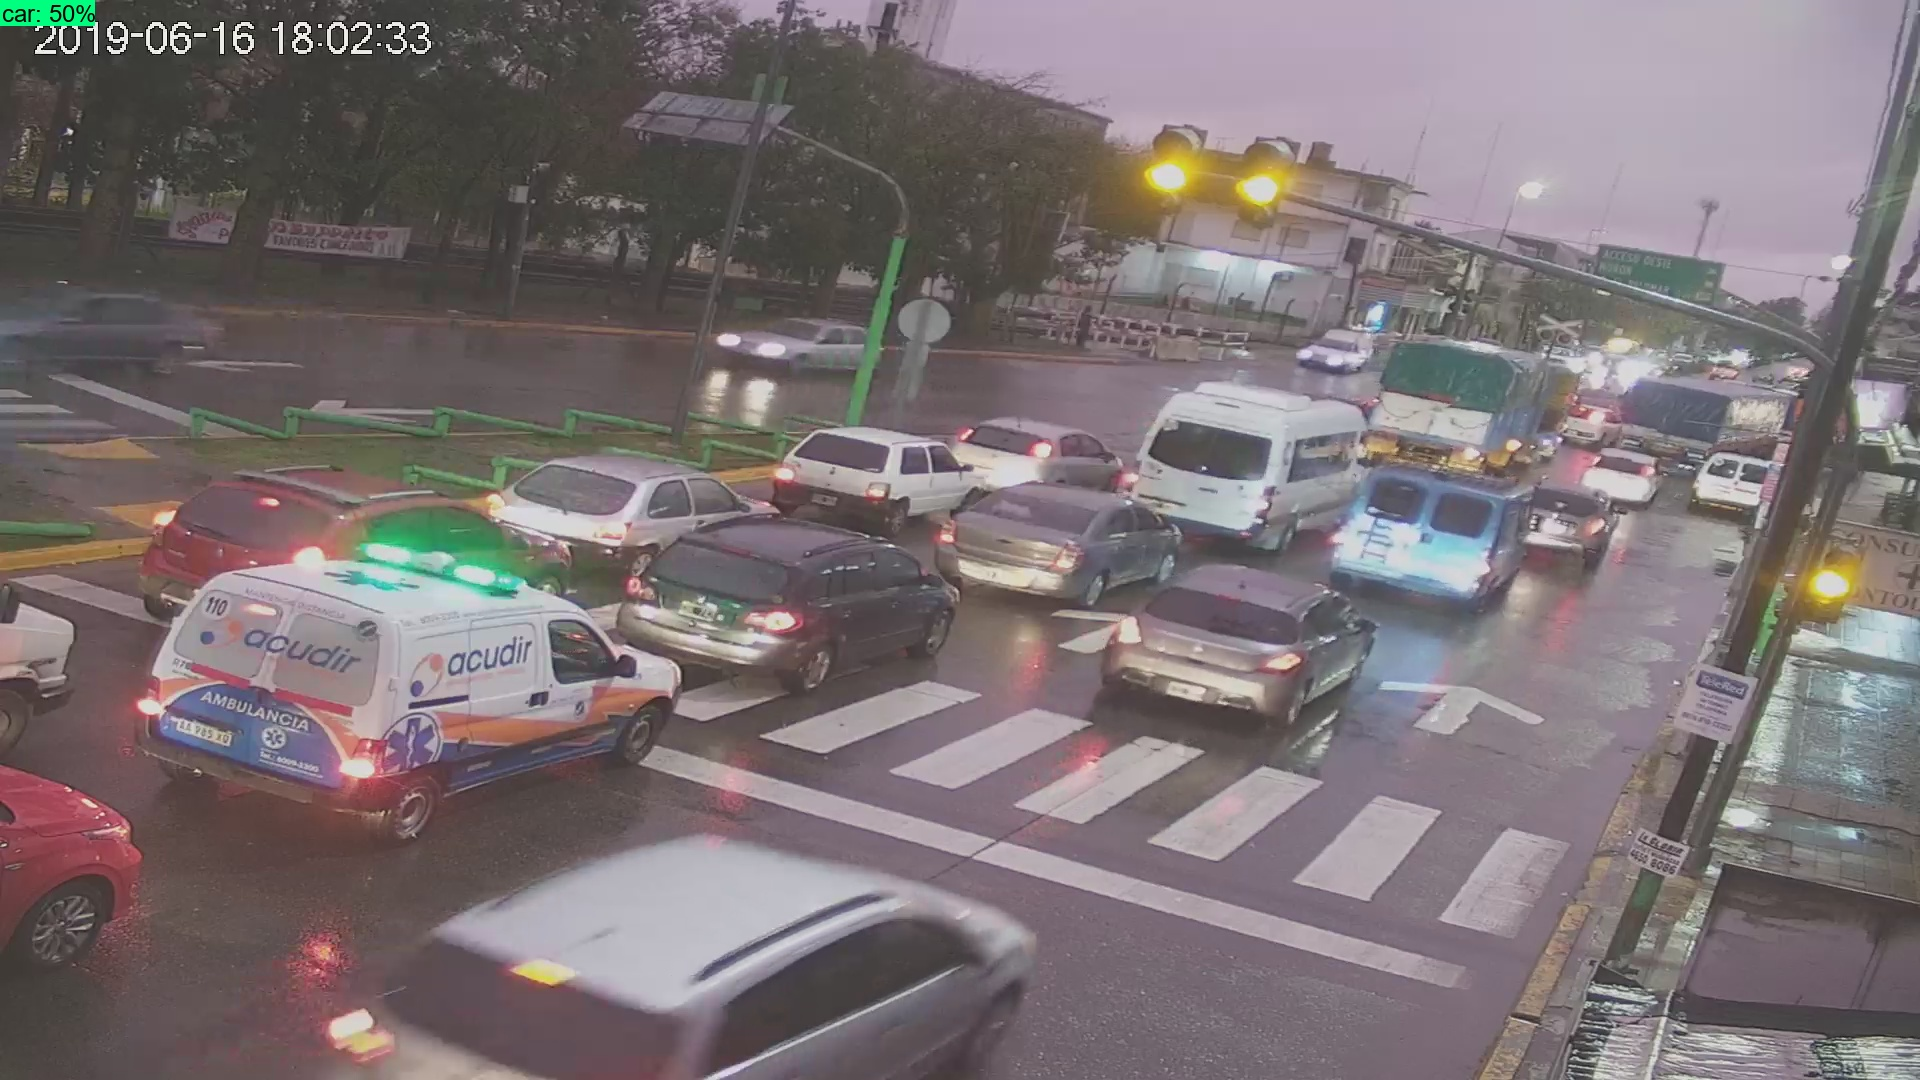car: (270, 839, 1069, 1080), (622, 518, 965, 700), (1084, 553, 1379, 738), (1139, 386, 1382, 553), (927, 468, 1184, 597), (1, 766, 146, 967), (1336, 475, 1518, 615), (4, 280, 233, 386), (709, 305, 886, 384)
paramedics: (135, 563, 680, 836)
